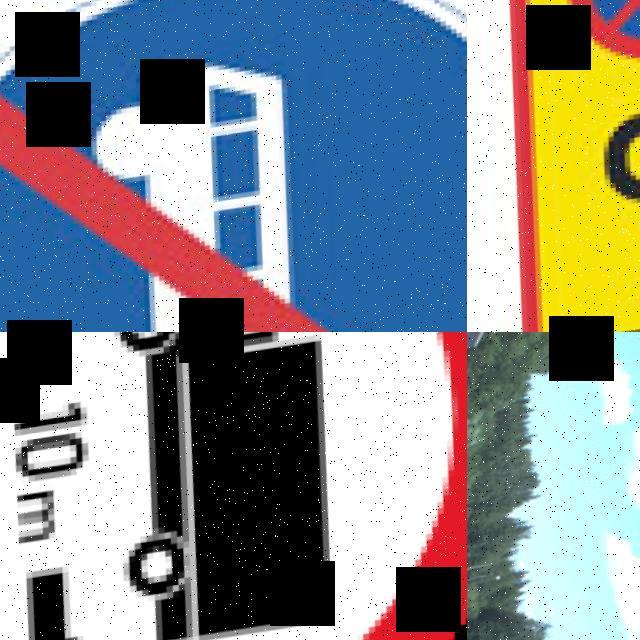181: (469, 0, 640, 332)
End of lane reserved for public transport: (0, 0, 467, 332)
length limit-10m: (0, 332, 467, 640)
